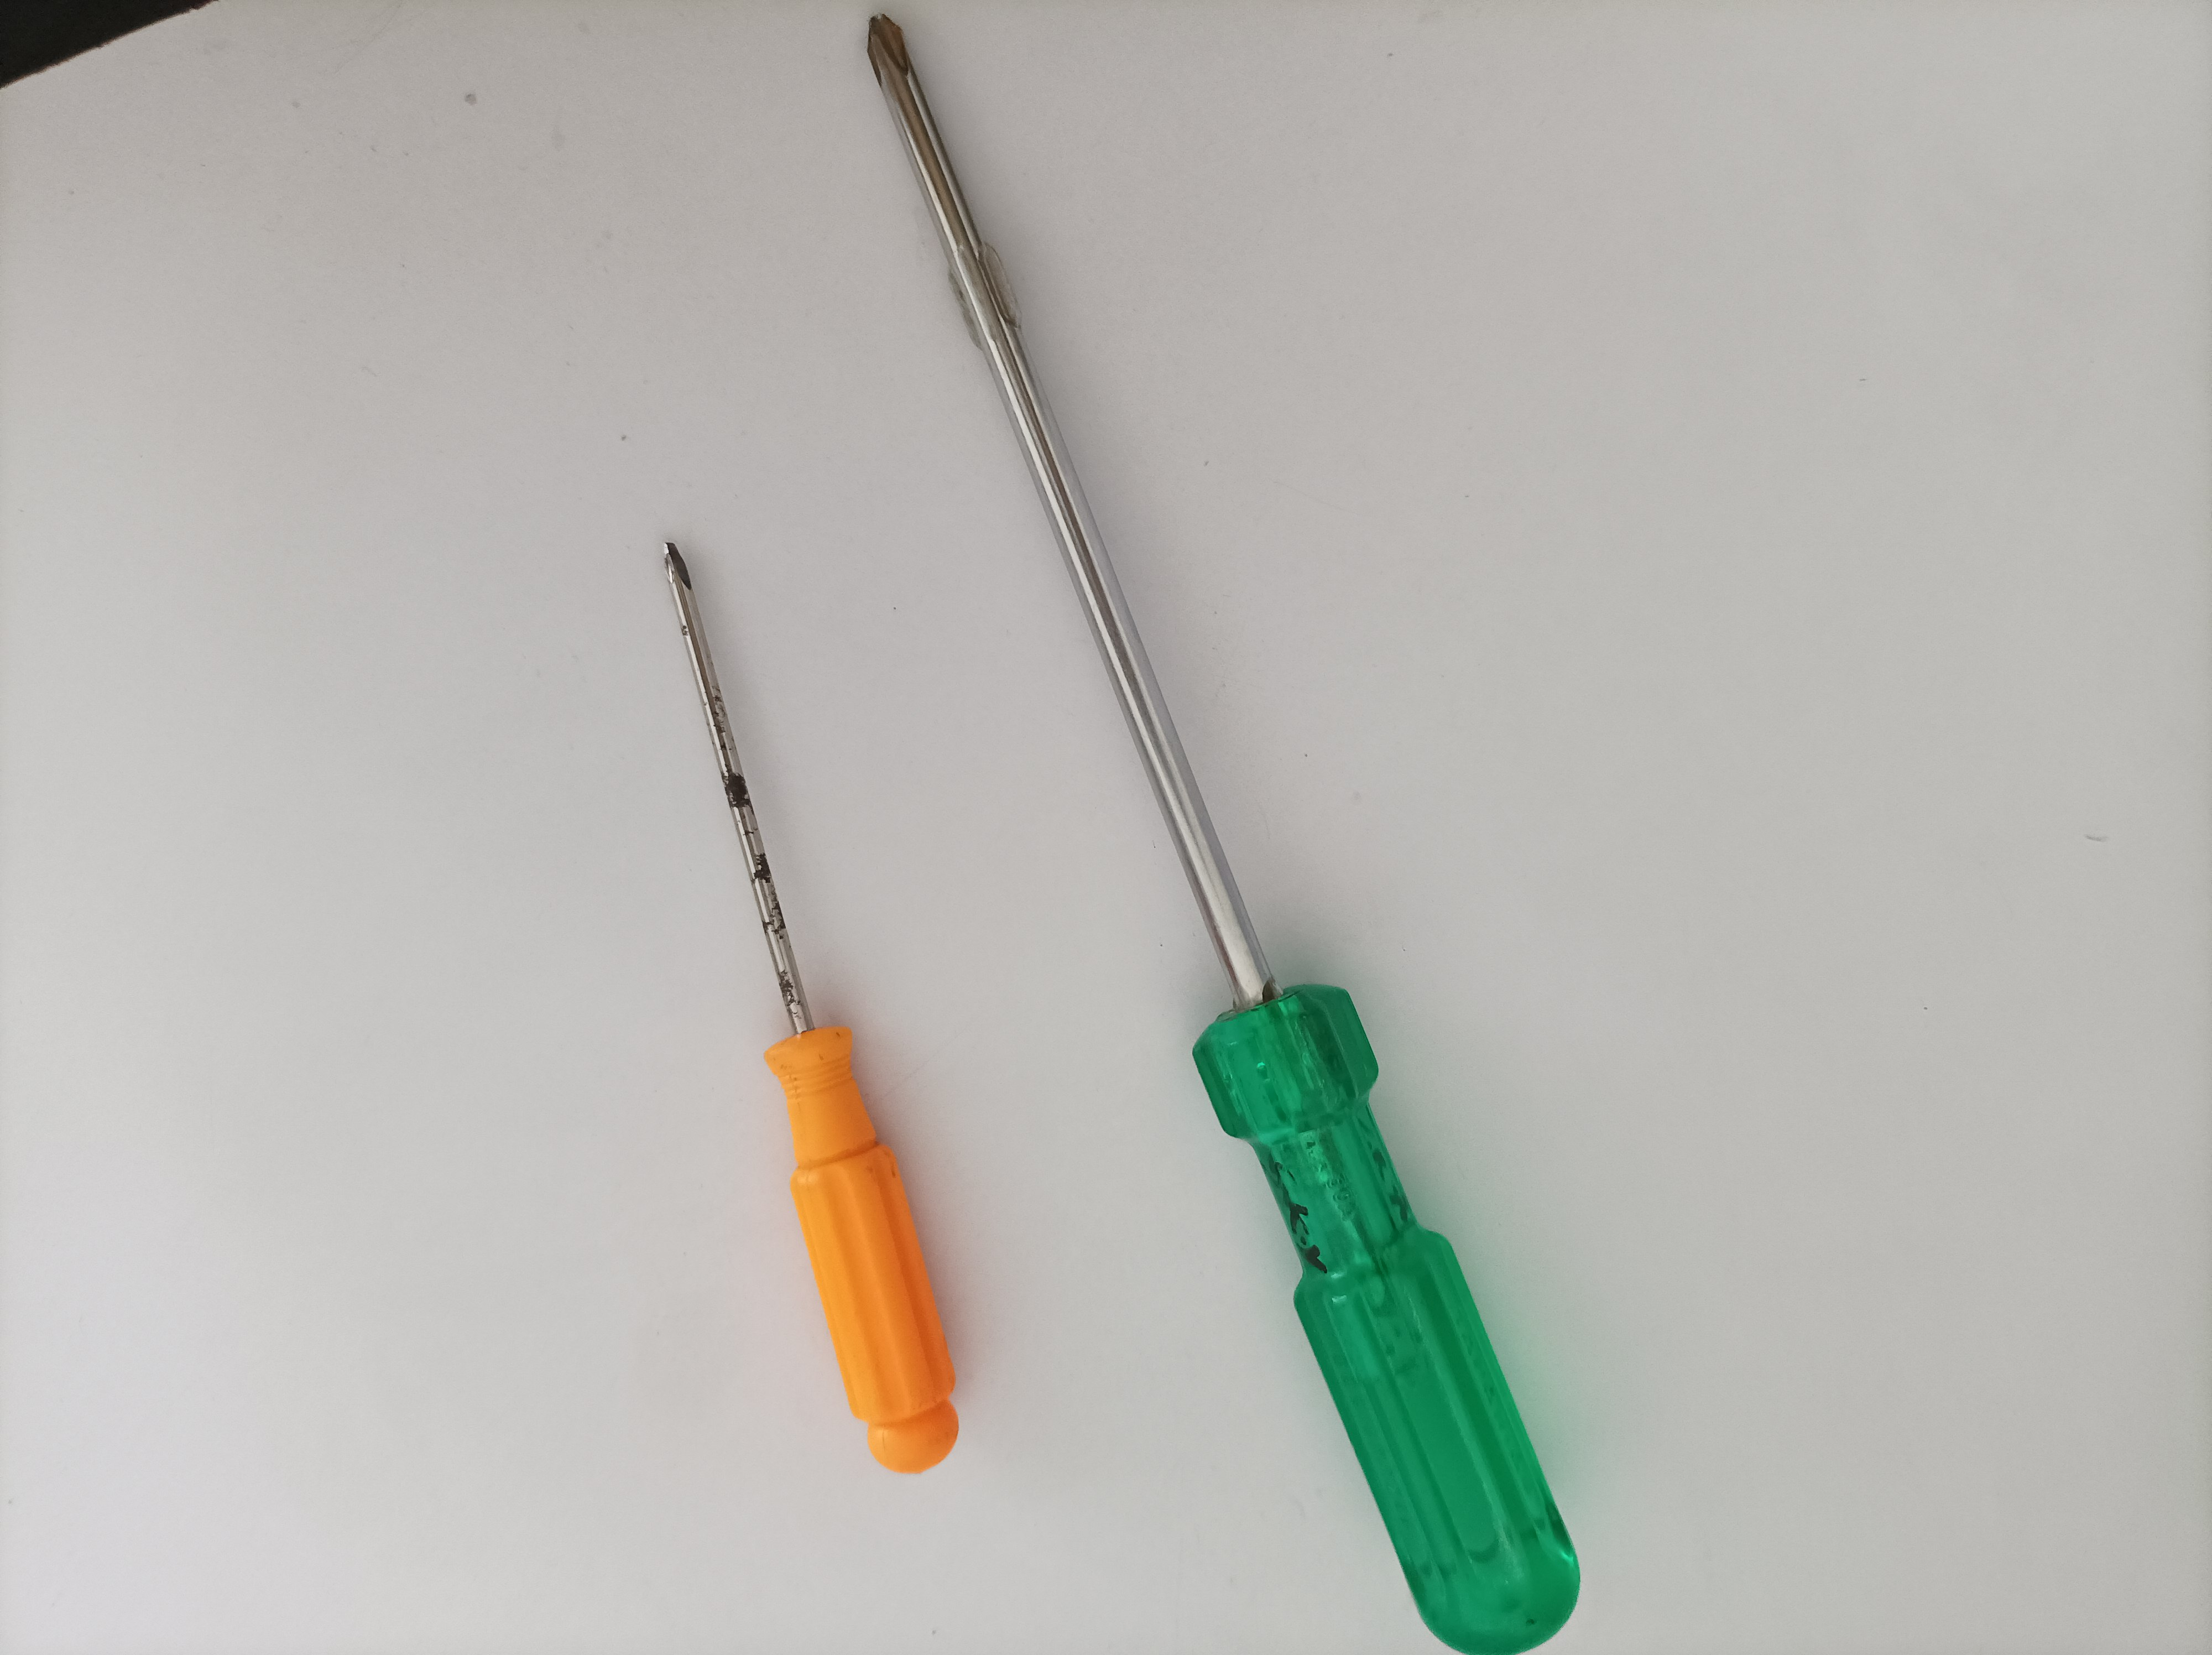screwdriver: (858, 5, 1588, 1655), (655, 525, 970, 1481)
